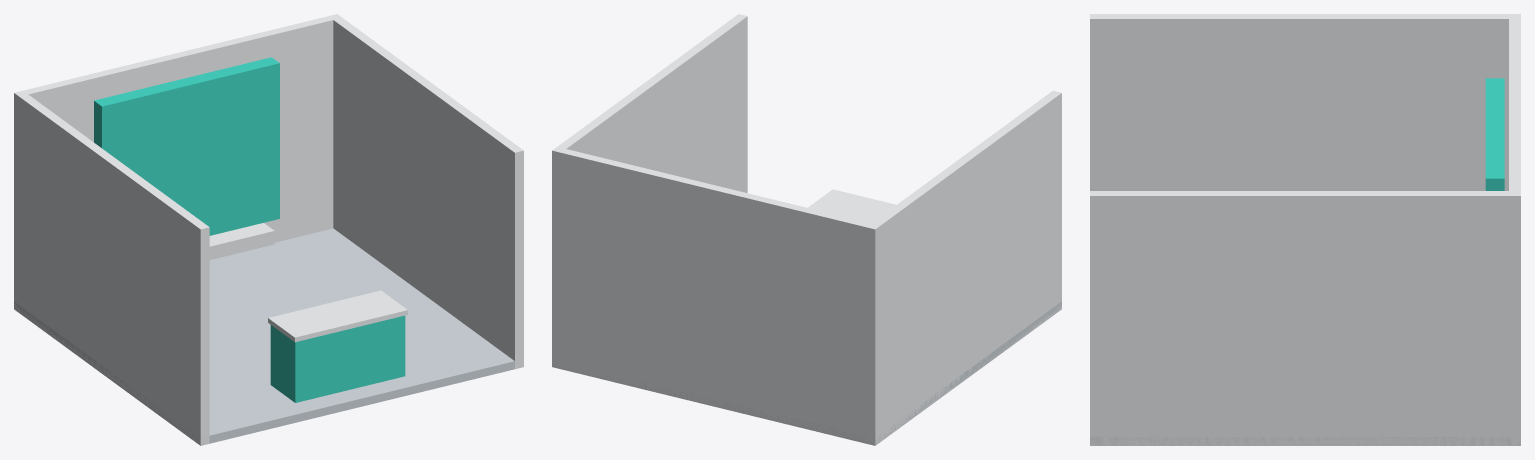
3 views of the same model, side by side, from view 1: azimuth 30°, elevation 25°; view 2: azimuth 150°, elevation 25°; view 3: azimuth 270°, elevation 25° (orthographic). The views are drawn at different scales.
Visible parts, largest first — view 1: Exhibition Booth Concept; view 2: Exhibition Booth Concept; view 3: Exhibition Booth Concept.
Part boxes in pixels (<box>): Exhibition Booth Concept: <box>14,14,523,445</box>; Exhibition Booth Concept: <box>552,14,1061,445</box>; Exhibition Booth Concept: <box>1090,14,1520,445</box>.
Size of the model in its own units: 5 by 3.2 by 5.
